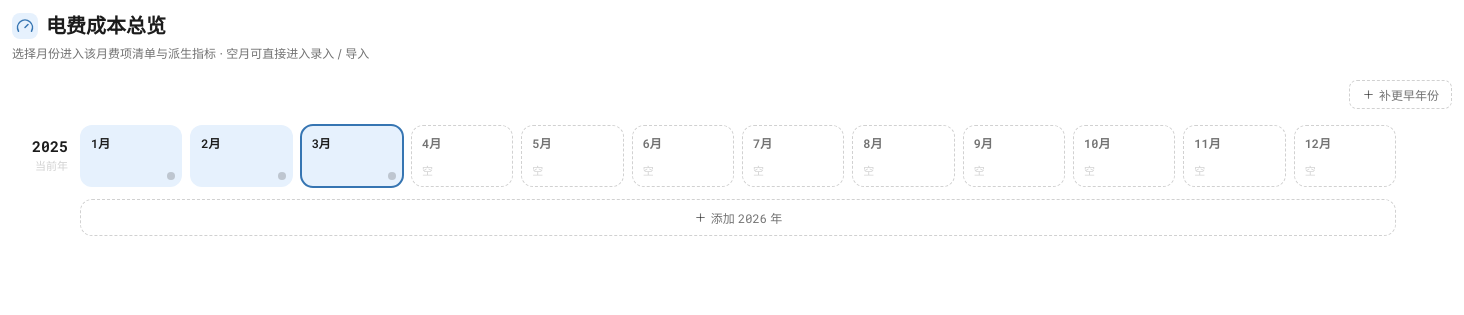
it: 电费成本总览 · ③ 电表清单独立槽 › ❗metersErr 独立槽不许被换月的成功抹掉
Click the button with class "bmm-card" showing "3月": (352, 156) [301,125,403,187]
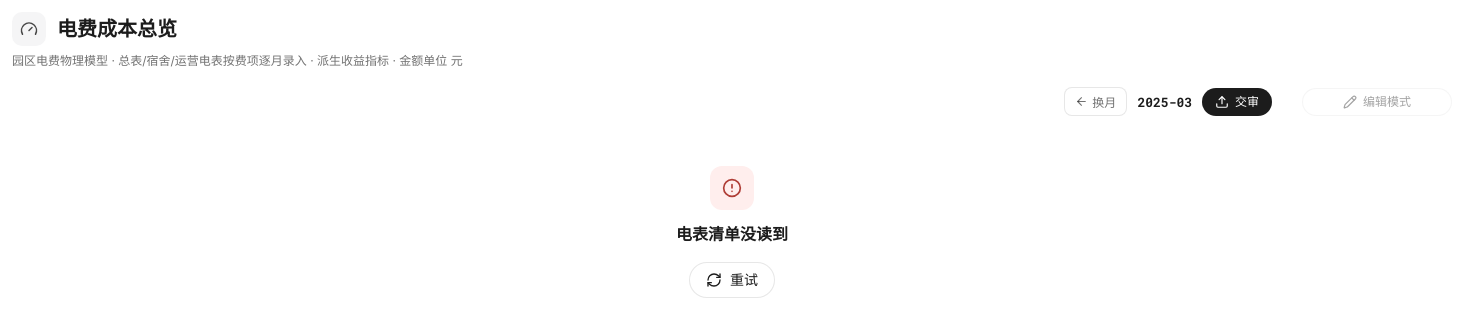
expect the text "电表清单没读到" is shown: met, box [676,222,788,246]
